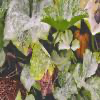Squash Powdery mildew leaf: (3, 0, 55, 52), (72, 49, 99, 98), (41, 0, 89, 25), (30, 41, 50, 76), (56, 68, 75, 99), (57, 29, 82, 52), (21, 63, 35, 89)
